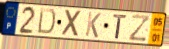2: (18, 6, 37, 36)
D: (36, 7, 57, 36)
K: (84, 11, 102, 40)
T: (112, 14, 129, 41)
X: (61, 9, 84, 39)
Z: (127, 14, 151, 43)
